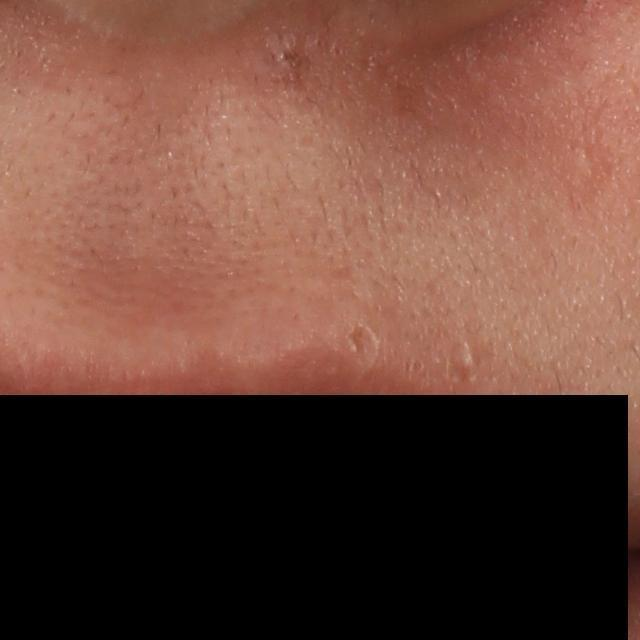atrophic_scar: (443, 339, 481, 385), (351, 323, 380, 367)
